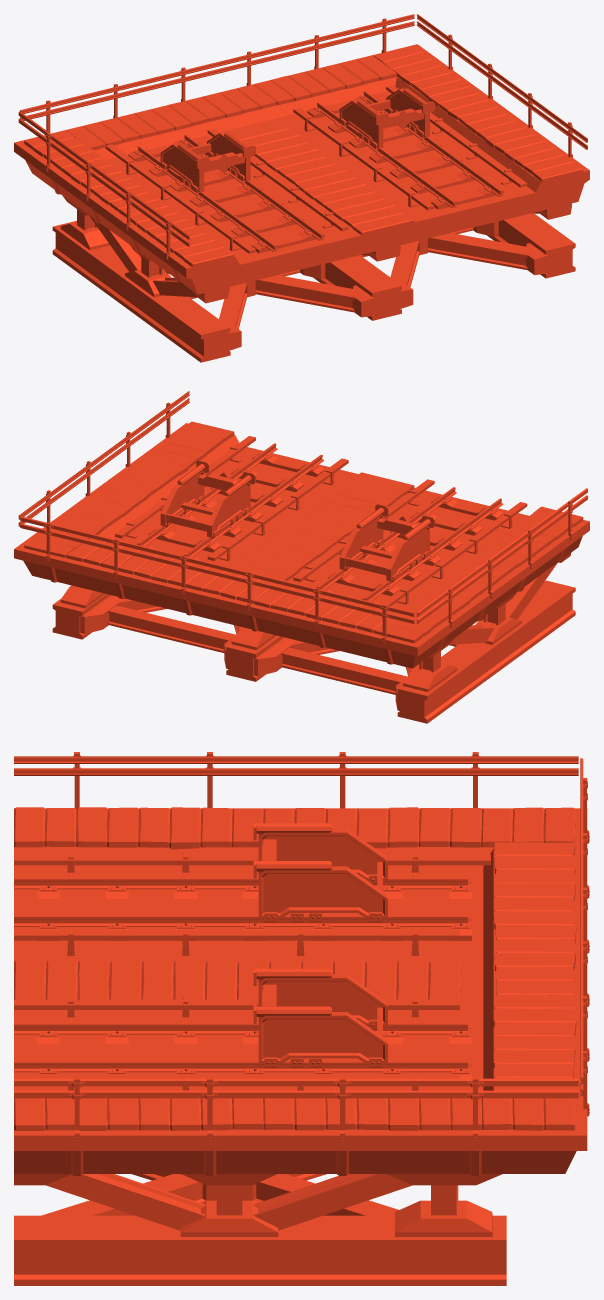
File: SM_Rails_Overground_End_City.fbx
The picture shows the model from 3 angles, top to bottom: view 1: azimuth 30°, elevation 25°; view 2: azimuth 150°, elevation 25°; view 3: azimuth 270°, elevation 25°; orthographic projection. The views are drawn at different scales.
Visible parts, largest first — view 1: SM_Rails_Overground_End_City; view 2: SM_Rails_Overground_End_City; view 3: SM_Rails_Overground_End_City.
Boxes of the visible parts, box(x1,y1,x2,y2) form: SM_Rails_Overground_End_City: box(14, 14, 589, 362); SM_Rails_Overground_End_City: box(14, 391, 589, 723); SM_Rails_Overground_End_City: box(14, 752, 589, 1285).
Bounding box in the file's own units: 13.61 × 4.28 × 10.04.
